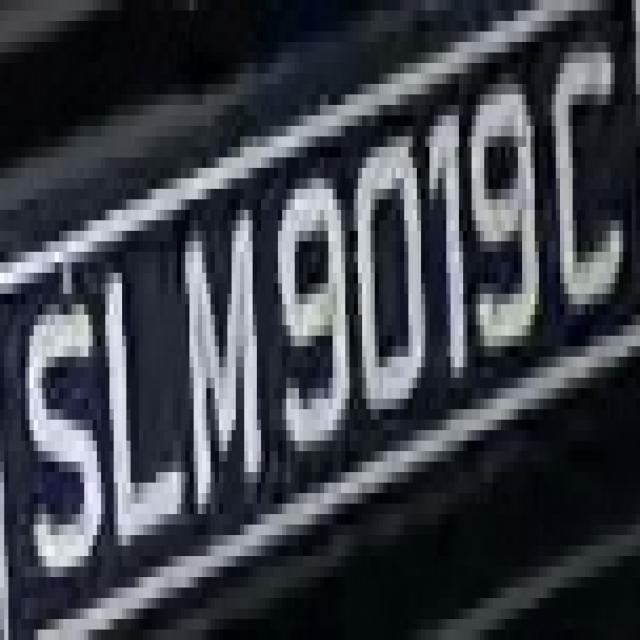0: (337, 126, 434, 462)
1: (425, 94, 484, 420)
9: (270, 147, 346, 483), (463, 74, 539, 409)
C: (543, 21, 623, 336)
L: (89, 220, 190, 566)
M: (164, 188, 261, 504)
S: (17, 294, 105, 556)
